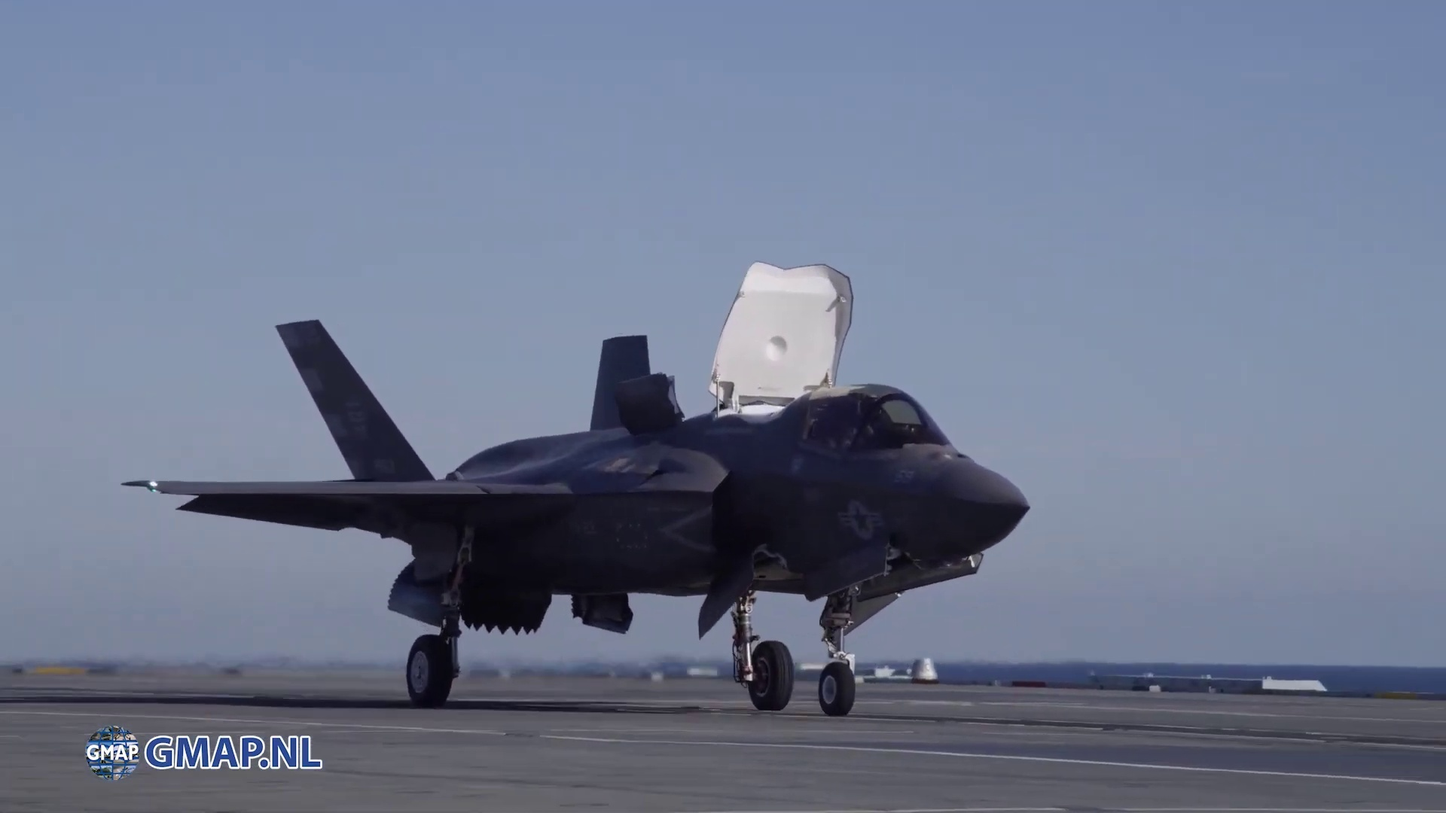F35: (114, 258, 1038, 721)
